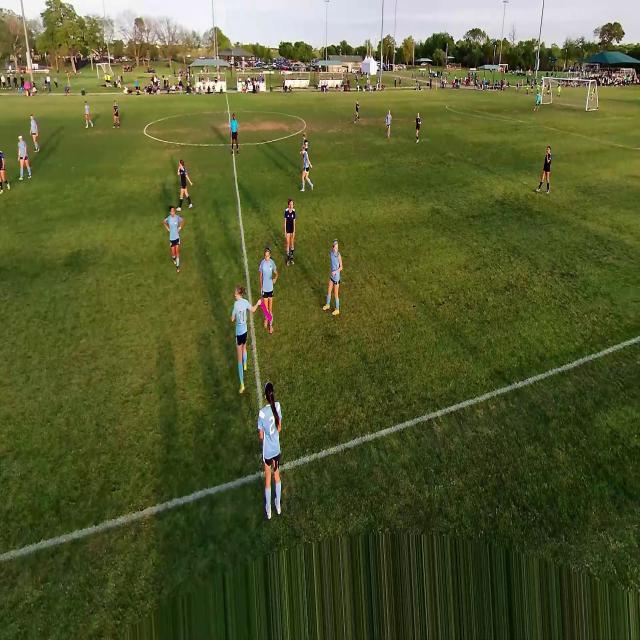team1: (177, 160, 196, 211), (285, 198, 296, 267), (539, 146, 554, 193), (1, 148, 11, 193), (114, 101, 123, 130), (414, 113, 422, 143), (354, 99, 360, 124), (301, 133, 311, 148)
team2: (259, 388, 286, 519), (233, 287, 258, 394), (258, 249, 280, 334), (326, 240, 344, 317), (166, 203, 183, 274), (18, 136, 32, 180), (301, 147, 312, 193), (29, 114, 40, 152), (85, 99, 93, 131), (385, 110, 392, 141)
